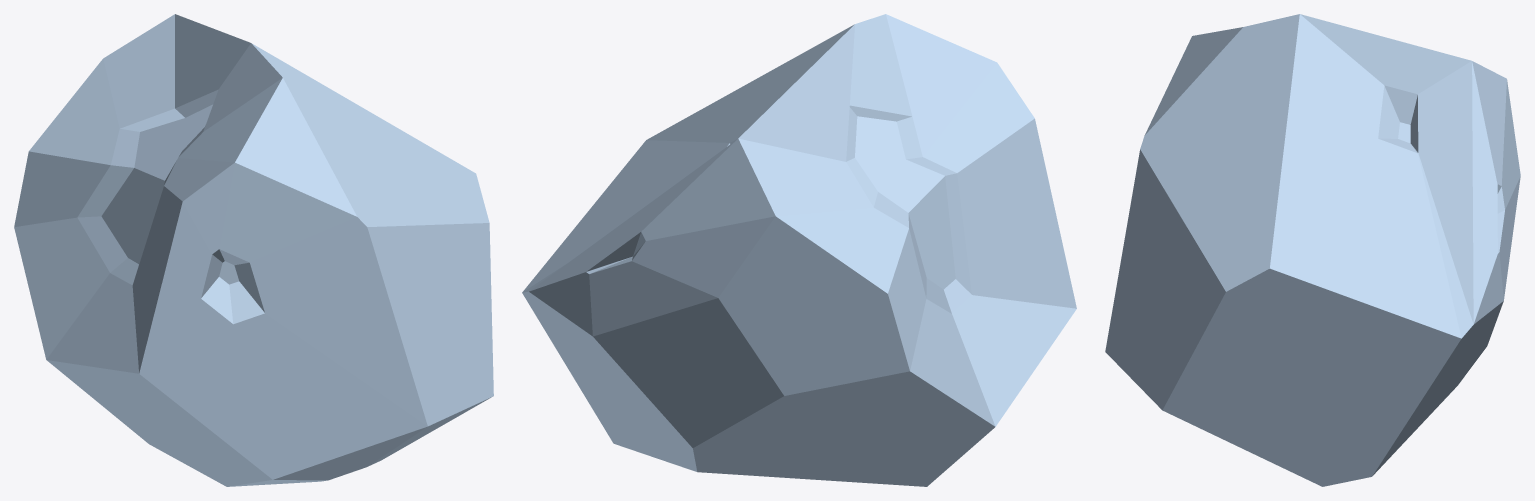
Rendered from Asteroid3.fbx.
3 renders of one model, left to right at view 1: azimuth 30°, elevation 25°; view 2: azimuth 150°, elevation 25°; view 3: azimuth 270°, elevation 25°, orthographic. The views are drawn at different scales.
Visible parts, largest first — view 1: asteroid; view 2: asteroid; view 3: asteroid.
Part boxes in pixels (x1,y1,x2,y2): asteroid: (14, 14, 493, 486); asteroid: (522, 14, 1076, 486); asteroid: (1105, 14, 1520, 486).
Bounding box in the file's own units: 197 × 203 × 195.
